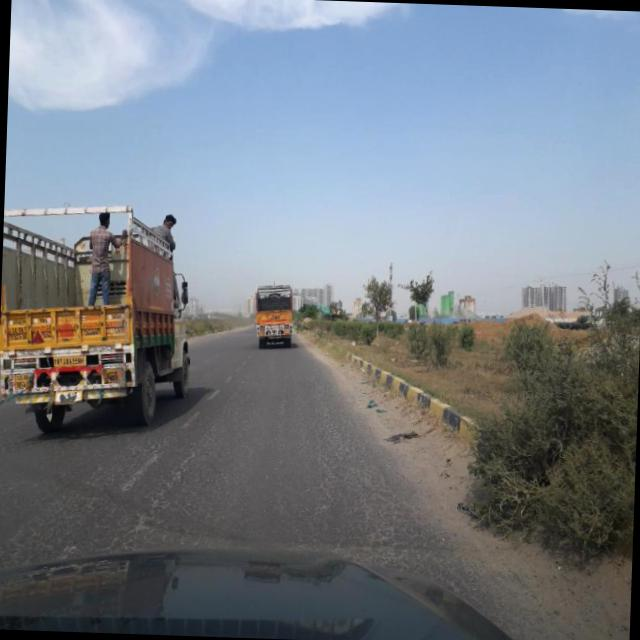crack: (72, 402, 436, 554)
